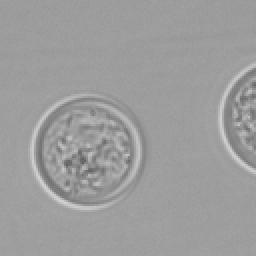picoshell: (30, 94, 142, 208), (218, 62, 254, 174)
